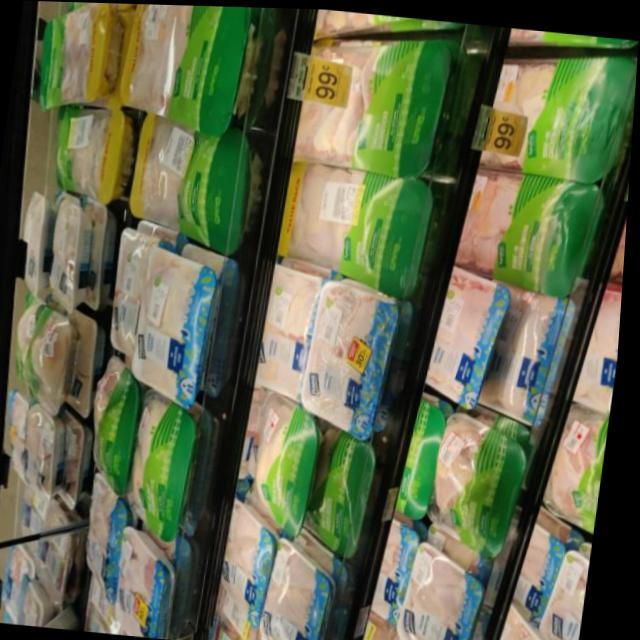Meat: (293, 19, 455, 173), (476, 35, 639, 181), (278, 157, 432, 292), (459, 166, 605, 292), (305, 276, 410, 428), (114, 3, 250, 118), (131, 237, 227, 398), (430, 408, 536, 546), (426, 259, 516, 404), (129, 388, 207, 534), (482, 287, 572, 408), (252, 390, 328, 532), (402, 535, 492, 640), (38, 1, 122, 113), (117, 524, 193, 638), (260, 263, 326, 393), (0, 387, 74, 502), (546, 399, 616, 520), (264, 535, 342, 640), (53, 101, 136, 198), (91, 352, 149, 490), (571, 273, 626, 410), (82, 475, 141, 591), (28, 305, 84, 409), (32, 496, 88, 600), (540, 541, 598, 640), (45, 193, 96, 304)
